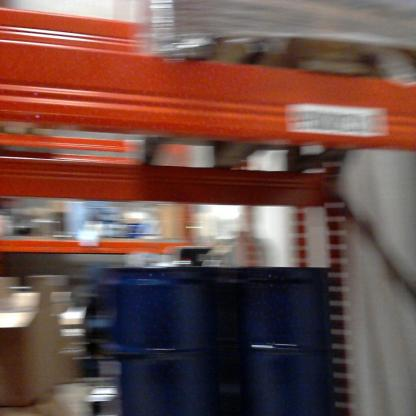pallet: (135, 5, 414, 172)
